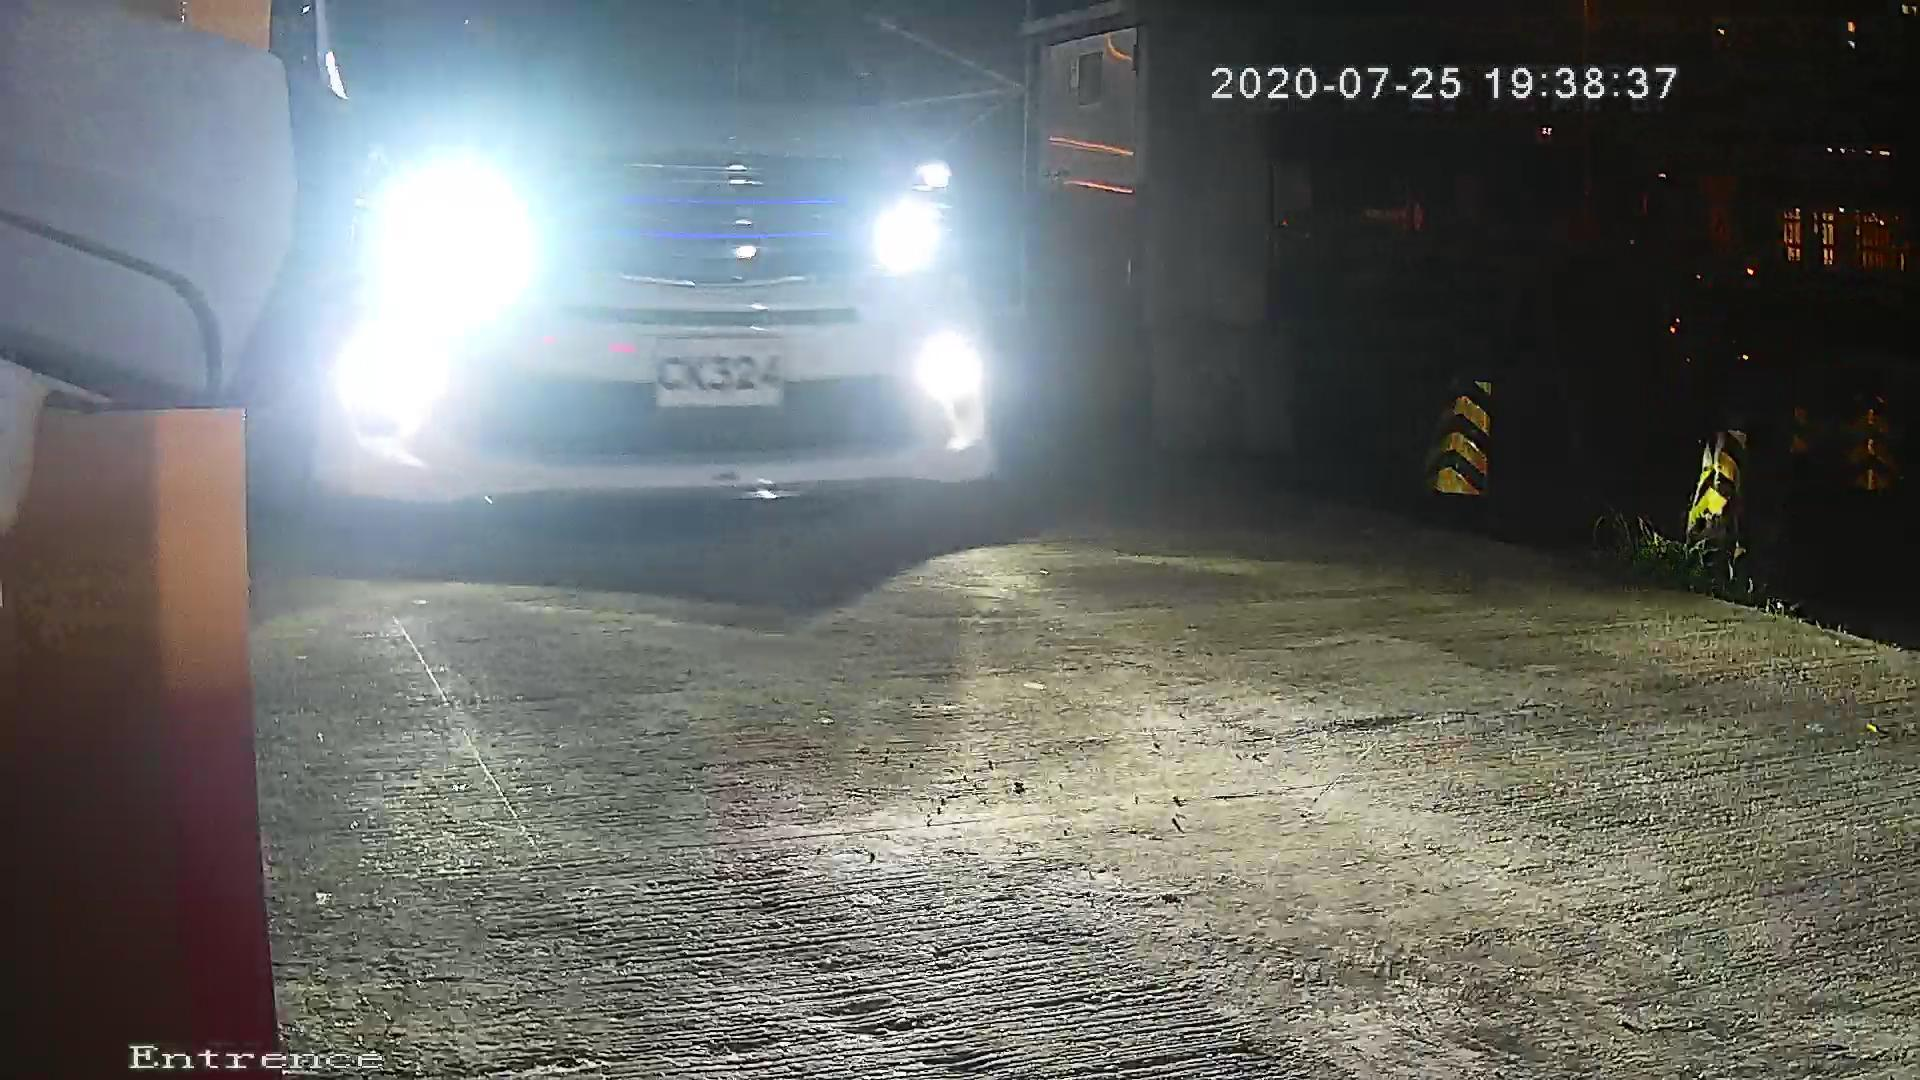privatecar: (223, 34, 1055, 550)
